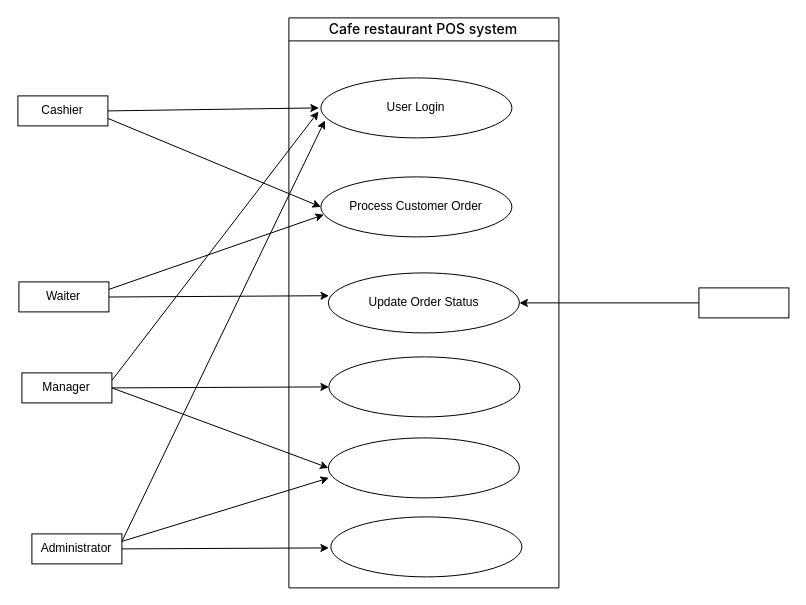
Image size: 806x605. Some labels were removed from this diagram. The shapes that lost their labels are listed below. From the top down, each one's centre as x and y in pixels, then its label:
At (x=743, y=302): "Kitchen Staff".
At (x=424, y=386): "Generate Sales Report".
At (x=423, y=467): "Manage Menu".
At (x=426, y=546): "Update Inventory".
